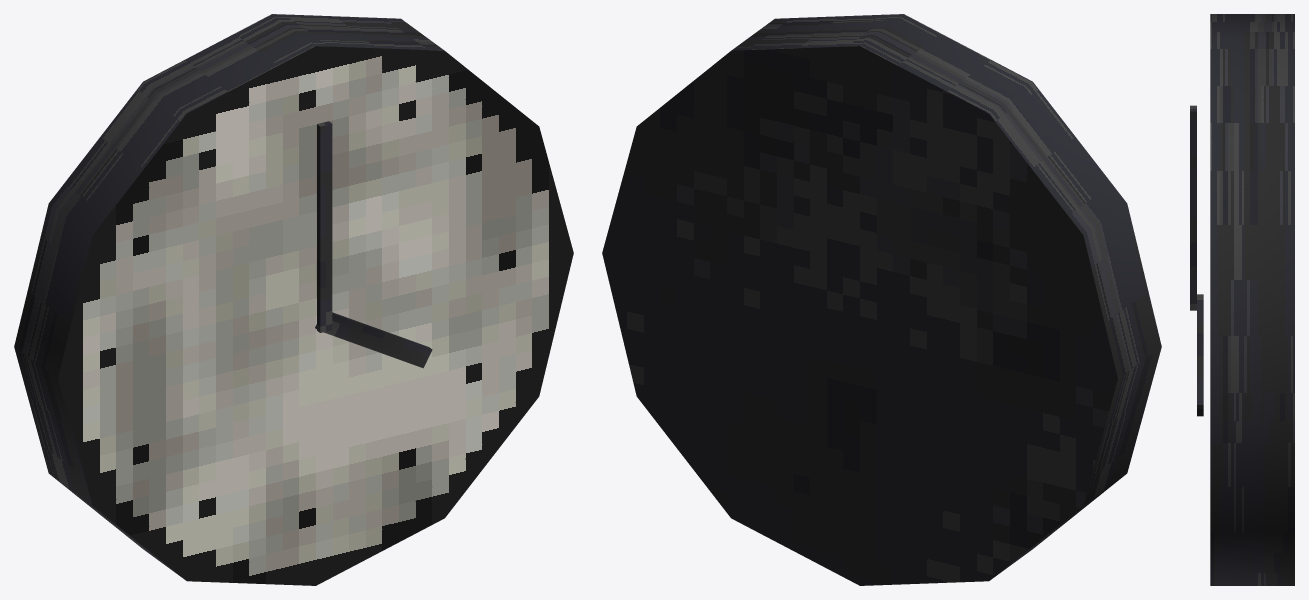
File: school_clock.glb
3 renders of one model, left to right at view 1: azimuth 30°, elevation 25°; view 2: azimuth 150°, elevation 25°; view 3: azimuth 270°, elevation 25°, orthographic. The views are drawn at different scales.
Parts seen in each view (by area): view 1: school_clock, school_clock_hand; view 2: school_clock; view 3: school_clock, school_clock_hand.
Part boxes in pixels (left/top/right/bottom): school_clock: left=14, top=14, right=573, bottom=585; school_clock_hand: left=317, top=121, right=332, bottom=332; school_clock: left=602, top=14, right=1161, bottom=585; school_clock: left=1197, top=14, right=1294, bottom=585; school_clock_hand: left=1190, top=105, right=1196, bottom=310.
Size of the model in its own units: 0.34 by 0.34 by 0.062.
